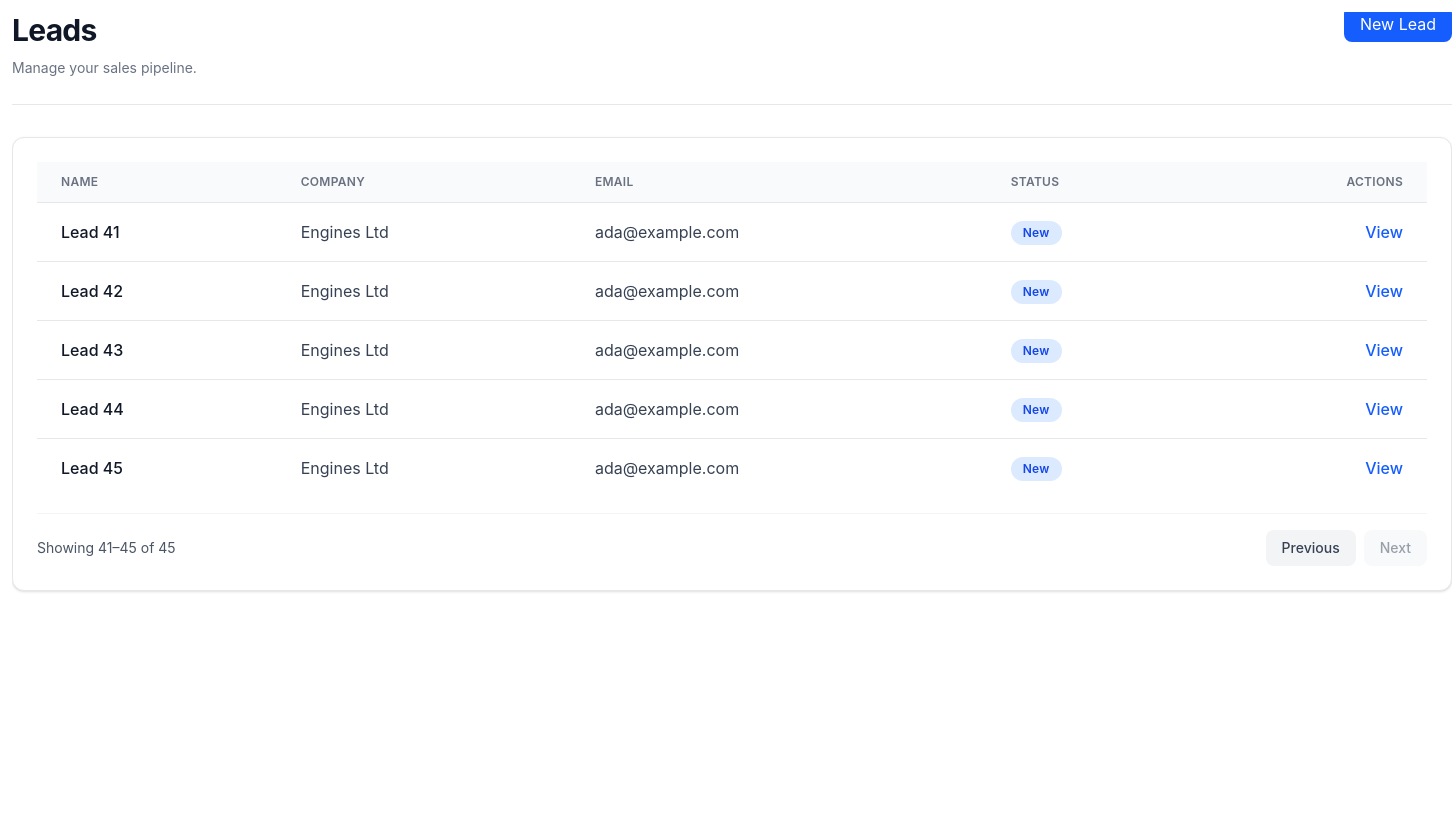
Test: LeadListPage pagination › opens the page given in the URL and stops at the last page
The image size is (1452, 813).
Expected: the text "Lead 41" is shown, [37,202,277,262]
Expected: the text "Showing 41–45 of 45" is shown, [37,538,176,558]
What coordinates should you click on to do the following:
click the button "Previous"
I would click on:
 (1311, 548)
Its box is [1266,530,1356,566].
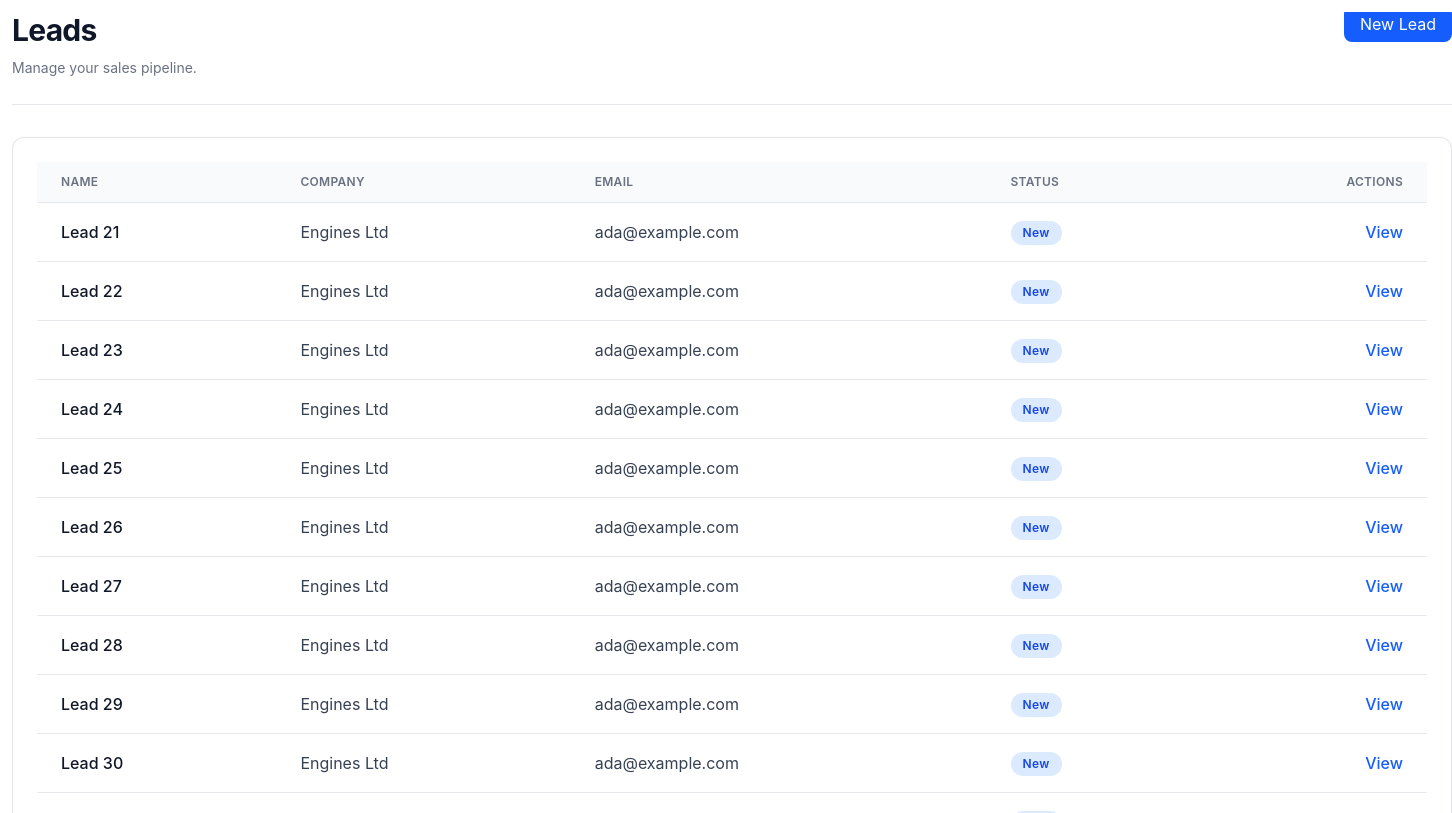
Now the text "Lead 21" is shown, box [37,202,276,262]
